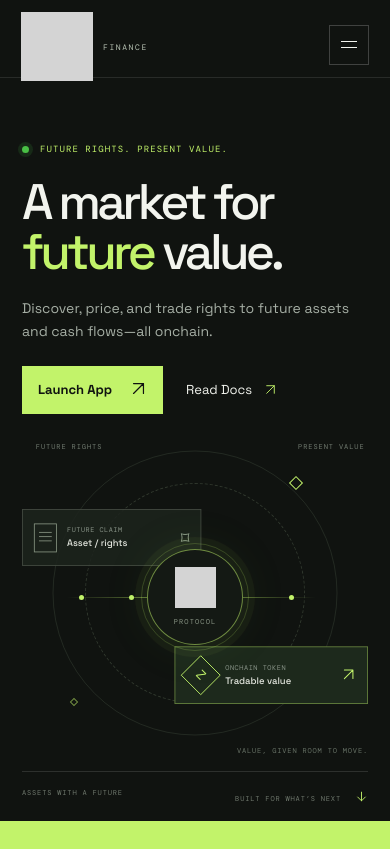
Test: Zoo homepage integration › opens and dismisses mobile navigation with Escape
The width and height of the screenshot is (390, 849).
Click the button named "Open navigation menu" at (349, 44), box [329, 24, 369, 64]
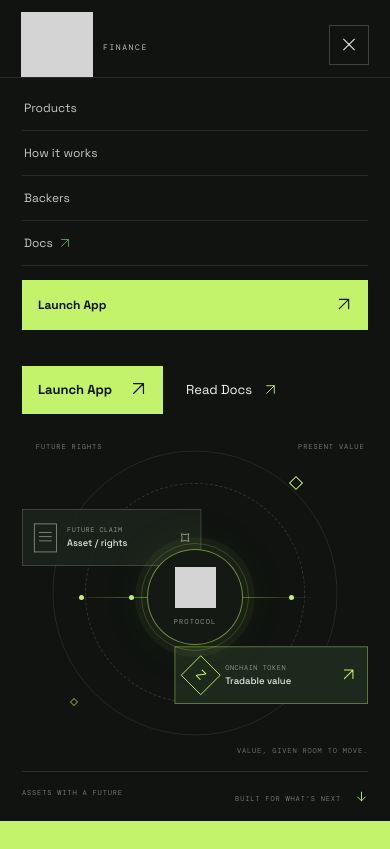
Expected: the button named "Close navigation menu" is expanded, [329, 24, 369, 64]
Press Escape
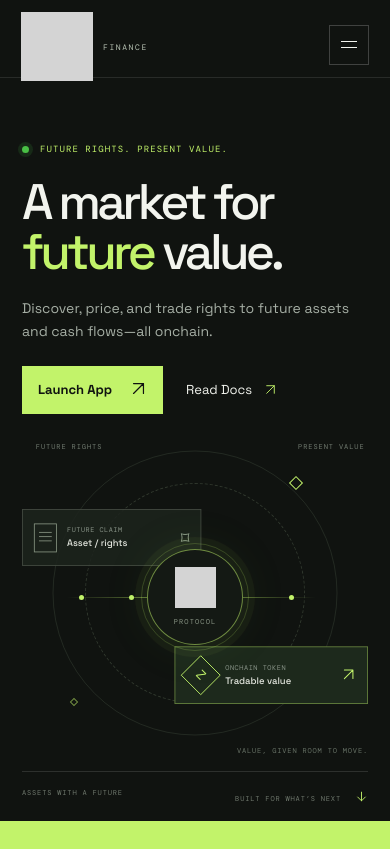
Expected: the button named "Open navigation menu" is collapsed, [329, 24, 369, 64]
